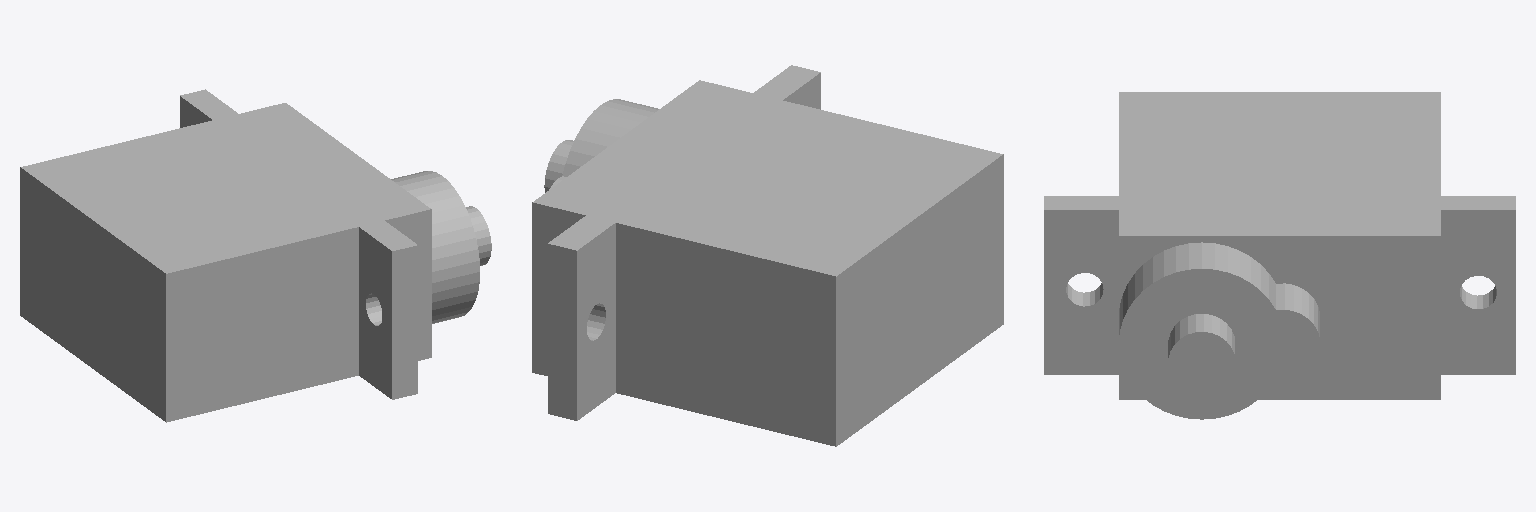
The robot description file, URDF, robot "root":
<?xml version='1.0' encoding='utf-8'?>
<robot name="root">
  <link name="link_001">
    <visual>
      <origin xyz="0 0 0" rpy="0 0 0" />
      <geometry>
        <mesh filename="26e72f3ab43633c6b7a447a62f7cec32dfaecc8af5a6a1d35cbb78ee1d7ee811_scale_000.stl" scale="1.0000E+00 1.0000E+00 1.0000E+00" />
      </geometry>
      <material name="">
        <color rgba="7.50E-01 7.50E-01 7.50E-01 1" />
      </material>
    </visual>
    <collision>
      <origin xyz="0 0 0" rpy="0 0 0" />
      <geometry>
        <mesh filename="26e72f3ab43633c6b7a447a62f7cec32dfaecc8af5a6a1d35cbb78ee1d7ee811_scale_000.stl" scale="1.0000E+00 1.0000E+00 1.0000E+00" />
      </geometry>
    </collision>
  </link>
</robot>

--- Facts derived from the render (not from the file) ---
The picture shows the robot from 3 angles, left to right: view 1: azimuth 30°, elevation 25°; view 2: azimuth 150°, elevation 25°; view 3: azimuth 270°, elevation 25°; orthographic projection.
Robot: root — 1 links, 0 joints (none); root link link_001; default pose: every joint at zero.
Links seen in each view (by area): view 1: link_001; view 2: link_001; view 3: link_001.
Boxes of the visible links, box(x1,y1,x2,y2) form: link_001: box(20, 89, 491, 422); link_001: box(532, 65, 1003, 446); link_001: box(1044, 92, 1515, 419).
Bounding box of the posed robot: 0.1132 × 0.12 × 0.0463 m (x, y, z).
Meshes: 1 distinct files referenced, 1 mesh visuals loaded (1 binary STL).
